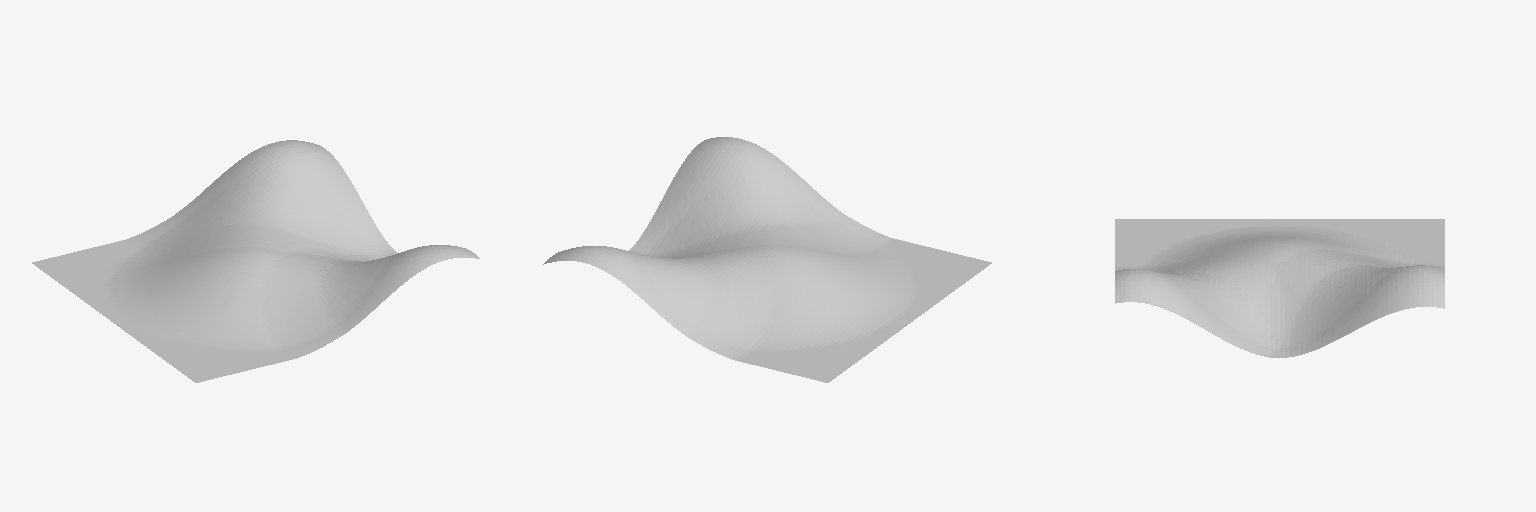
File: TerrainIntro.obj
The picture shows the model from 3 angles: view 1: azimuth 30°, elevation 25°; view 2: azimuth 150°, elevation 25°; view 3: azimuth 270°, elevation 25°; orthographic projection.
Size of the model in its own units: 100 by 21.57 by 100.